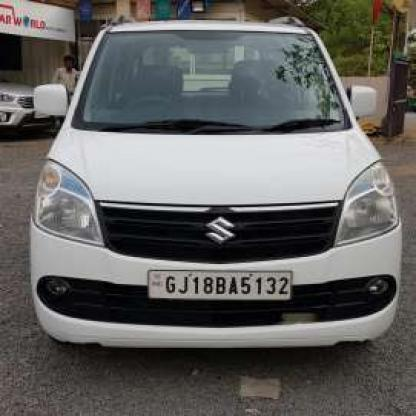license: (147, 268, 293, 301)
